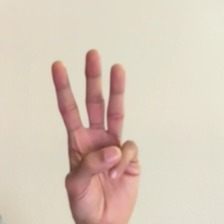W: (29, 46, 157, 224)
